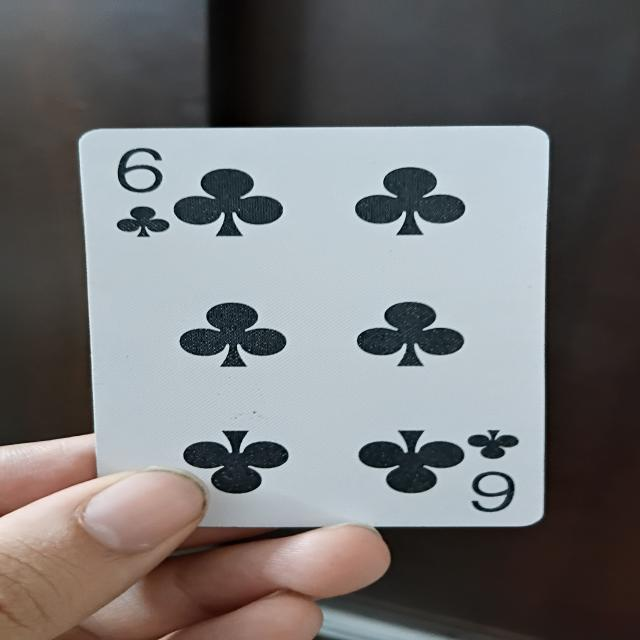6C: (75, 123, 547, 534)
